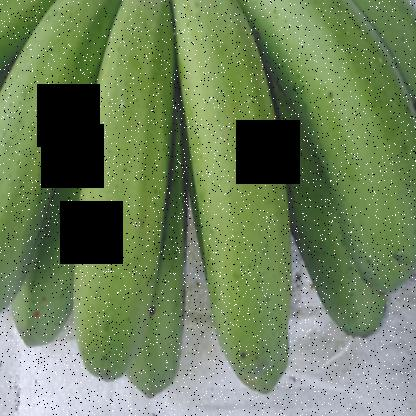unripe: (174, 0, 304, 398), (57, 0, 173, 391), (267, 0, 415, 297)
